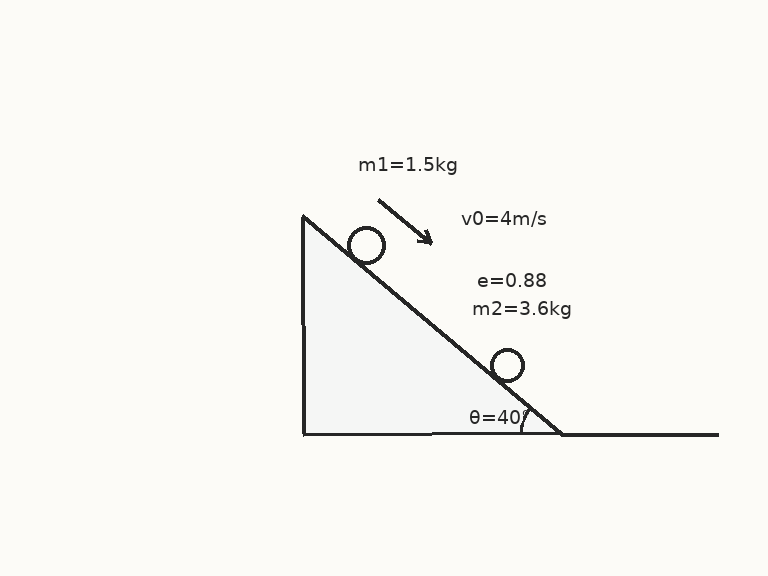ball: (345, 224, 387, 266), (488, 346, 526, 384)
ramp: (300, 214, 563, 435)
